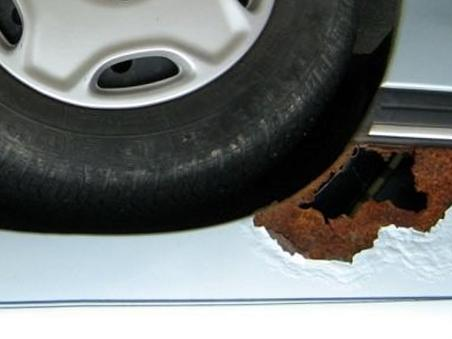rust: (263, 149, 452, 255)
